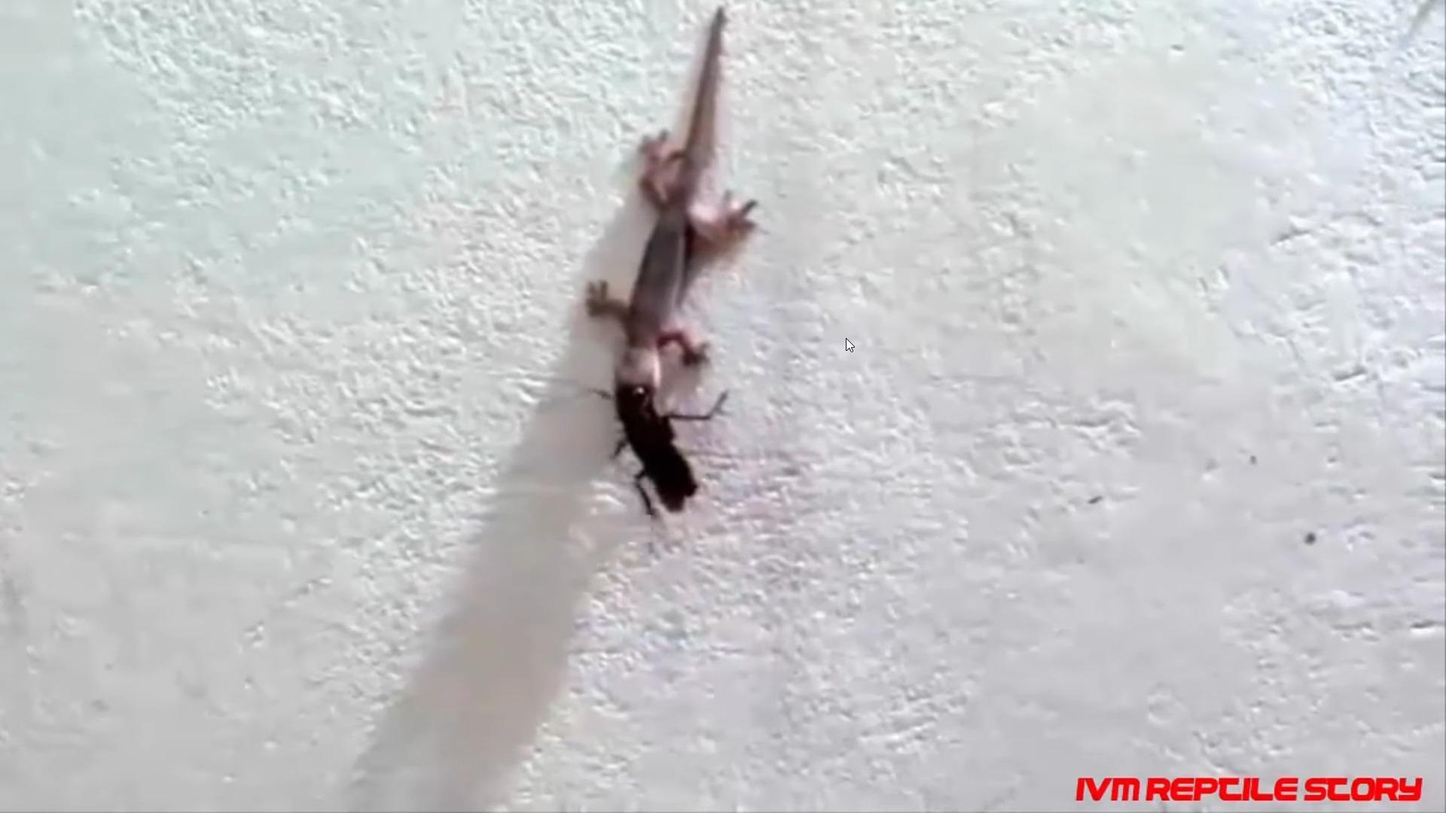cockroach: (593, 377, 698, 531)
lizard: (598, 51, 749, 370)
